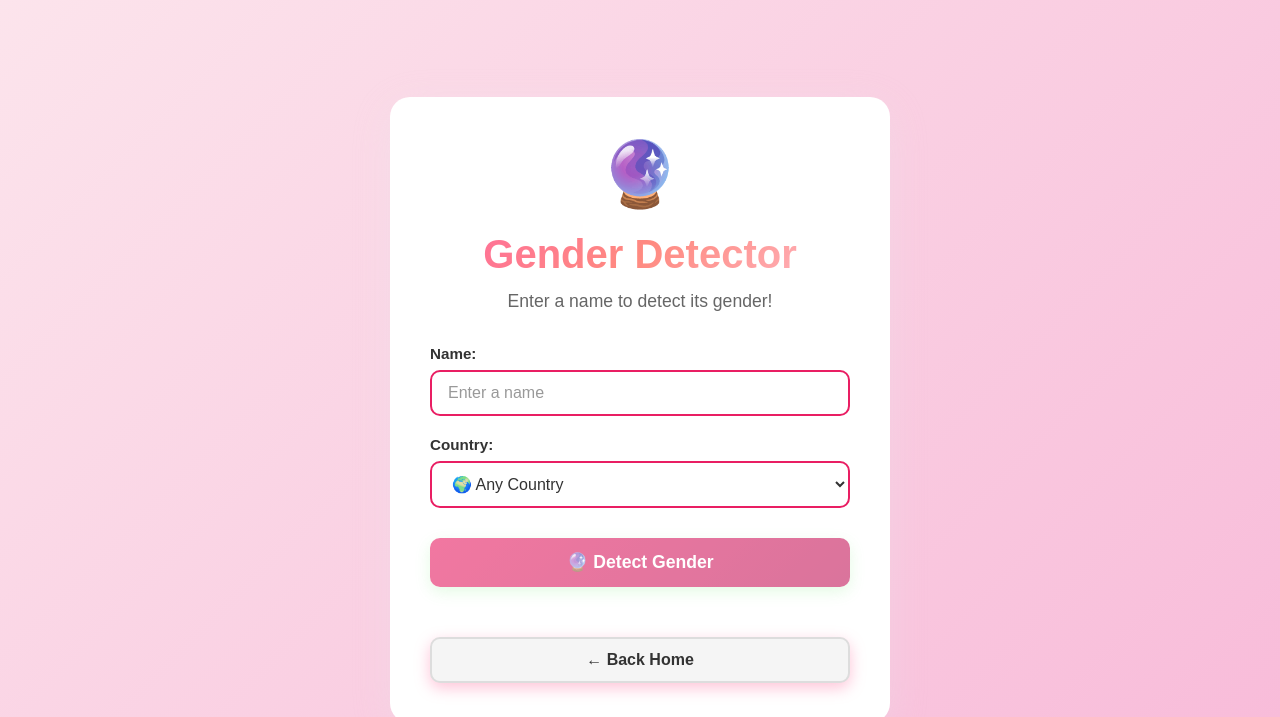
GenderPicker › displays male result correctly
In the field with id "name": (640, 393) left=430, top=370, right=850, bottom=416, type "Bob"
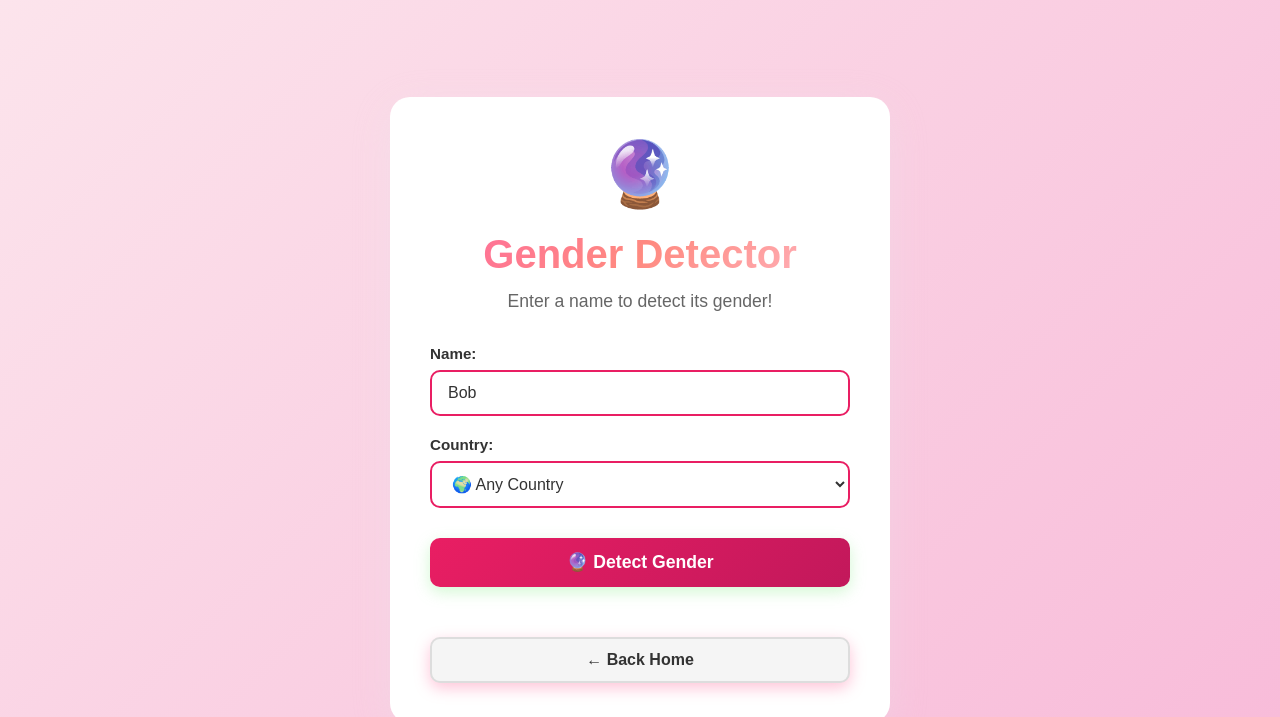
Submit the form, box left=430, top=345, right=850, bottom=587
(page scrolled)
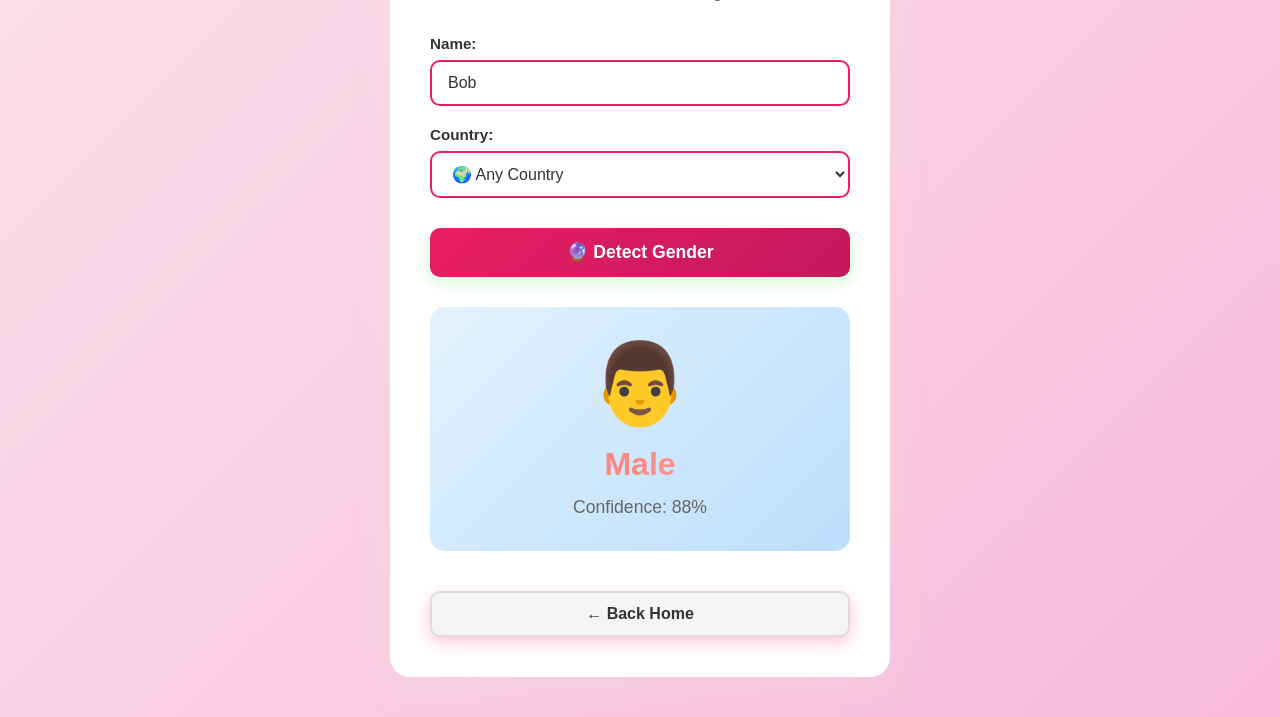
Check: the element with class "gender-result" is shown, box left=430, top=307, right=850, bottom=551
Check: the element with class "gender-result" shows "Male", box left=604, top=446, right=676, bottom=482
Check: the element with class "gender-result" shows "88%", box left=573, top=497, right=707, bottom=517
